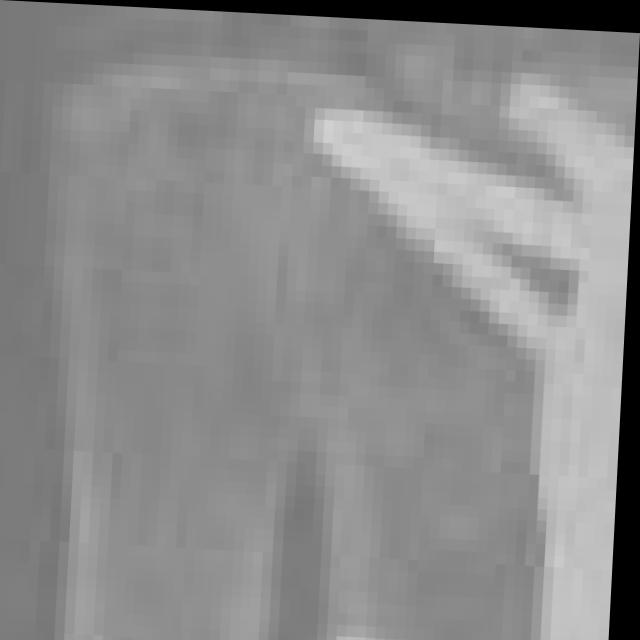fracture: (5, 0, 624, 640)
